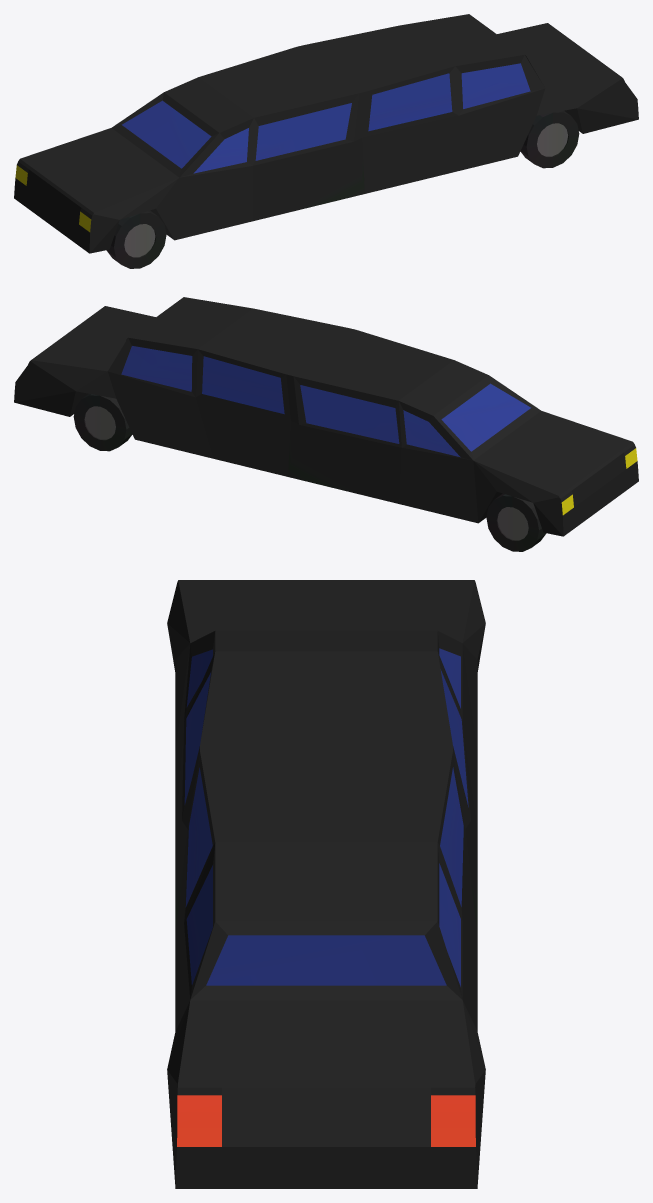
File: Limo.fbx
3 renders of one model, top to bottom at view 1: azimuth 30°, elevation 25°; view 2: azimuth 150°, elevation 25°; view 3: azimuth 270°, elevation 25°, orthographic. The views are drawn at different scales.
Parts seen in each view (by area): view 1: LimoBodyColor, LimoBody, LimoTires; view 2: LimoBodyColor, LimoBody, LimoTires; view 3: LimoBodyColor, LimoBody.
Boxes of the visible parts, box(x1,y1,x2,y2) form: LimoBodyColor: box(14, 14, 638, 253); LimoBody: box(15, 63, 530, 232); LimoTires: box(106, 110, 579, 268); LimoBodyColor: box(14, 297, 638, 536); LimoBody: box(121, 346, 637, 515); LimoTires: box(73, 393, 546, 551); LimoBodyColor: box(167, 580, 485, 1188); LimoBody: box(177, 648, 475, 1146).
Size of the model in its own units: 497 by 100 by 125.
